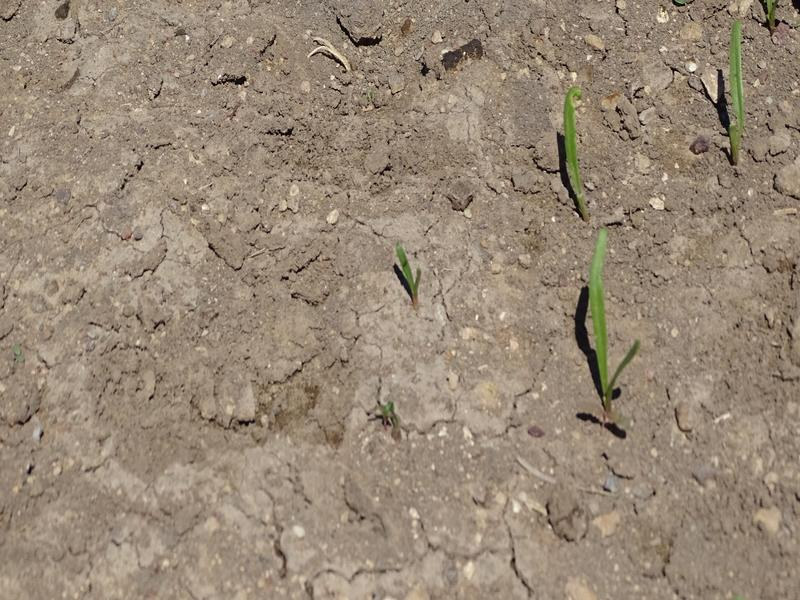Espinaca: (583, 232, 640, 403), (719, 27, 759, 160), (560, 85, 595, 220), (392, 242, 429, 306)
